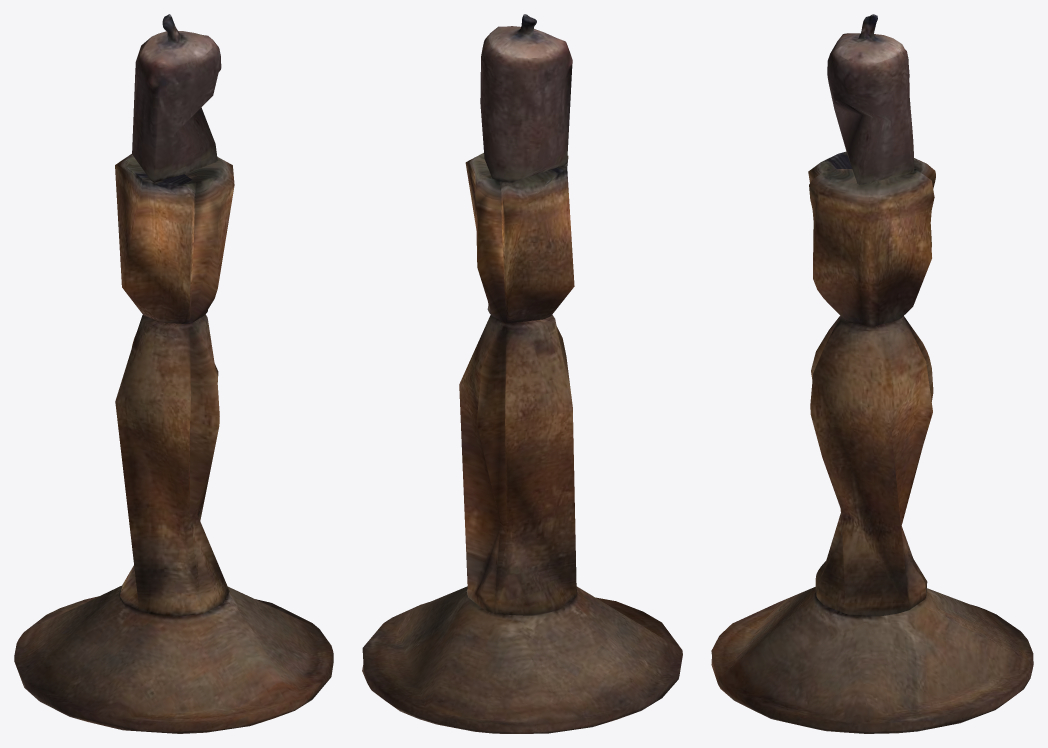
File: wooden_candlestick.glb
The picture shows the model from 3 angles, left to right: view 1: azimuth 30°, elevation 25°; view 2: azimuth 150°, elevation 25°; view 3: azimuth 270°, elevation 25°; orthographic projection.
Parts seen in each view (by area): view 1: wooden_candlestick; view 2: wooden_candlestick; view 3: wooden_candlestick.
Part boxes in pixels (<box>): wooden_candlestick: <box>14,14,333,733</box>; wooden_candlestick: <box>362,14,682,733</box>; wooden_candlestick: <box>711,14,1033,733</box>.
Bounding box in the file's own units: 0.0971 × 0.2196 × 0.0984.
Materials: 1 (1 with a texture image).
